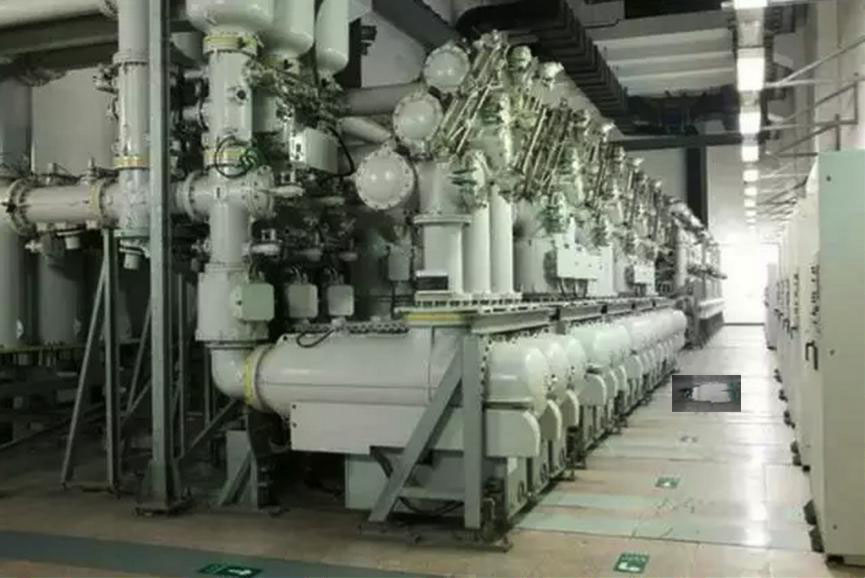oil: (676, 374, 738, 410)
